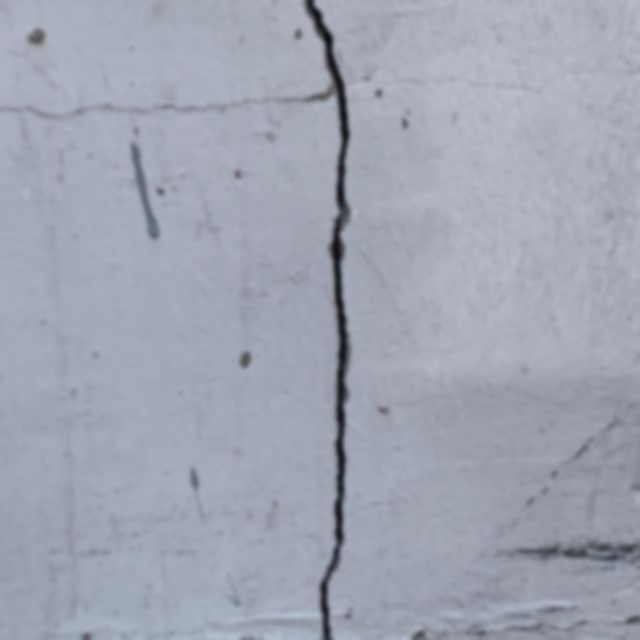SurfaceCrack: (246, 0, 404, 640)
